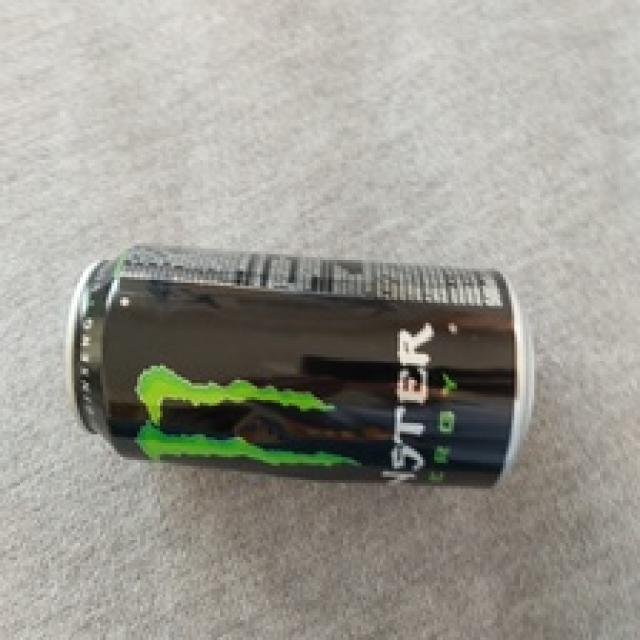recyclable: (68, 243, 536, 488)
